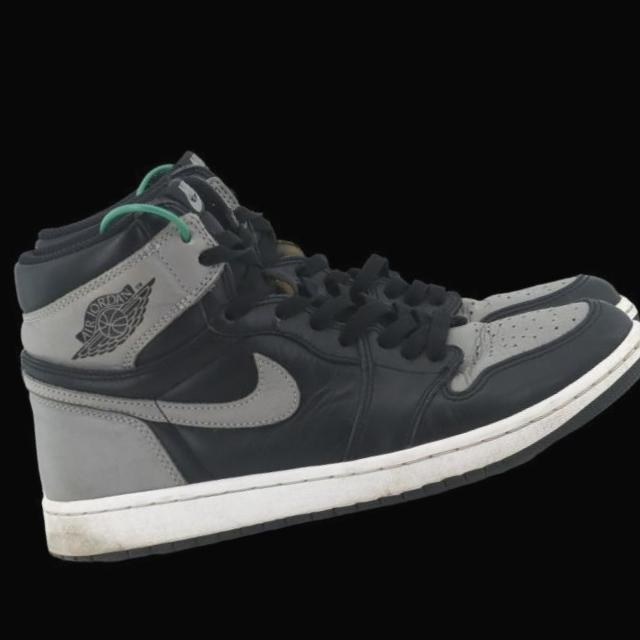nike_original_jordan: (0, 74, 640, 586), (15, 54, 640, 462)
